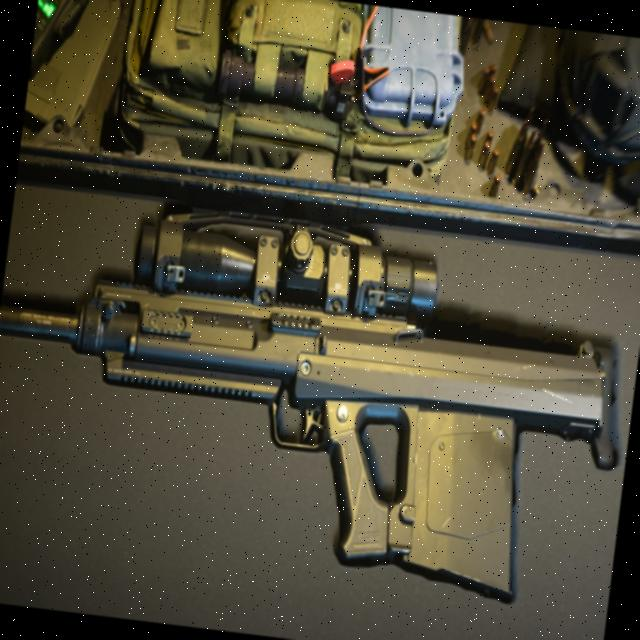Sniper: (0, 183, 632, 614)
